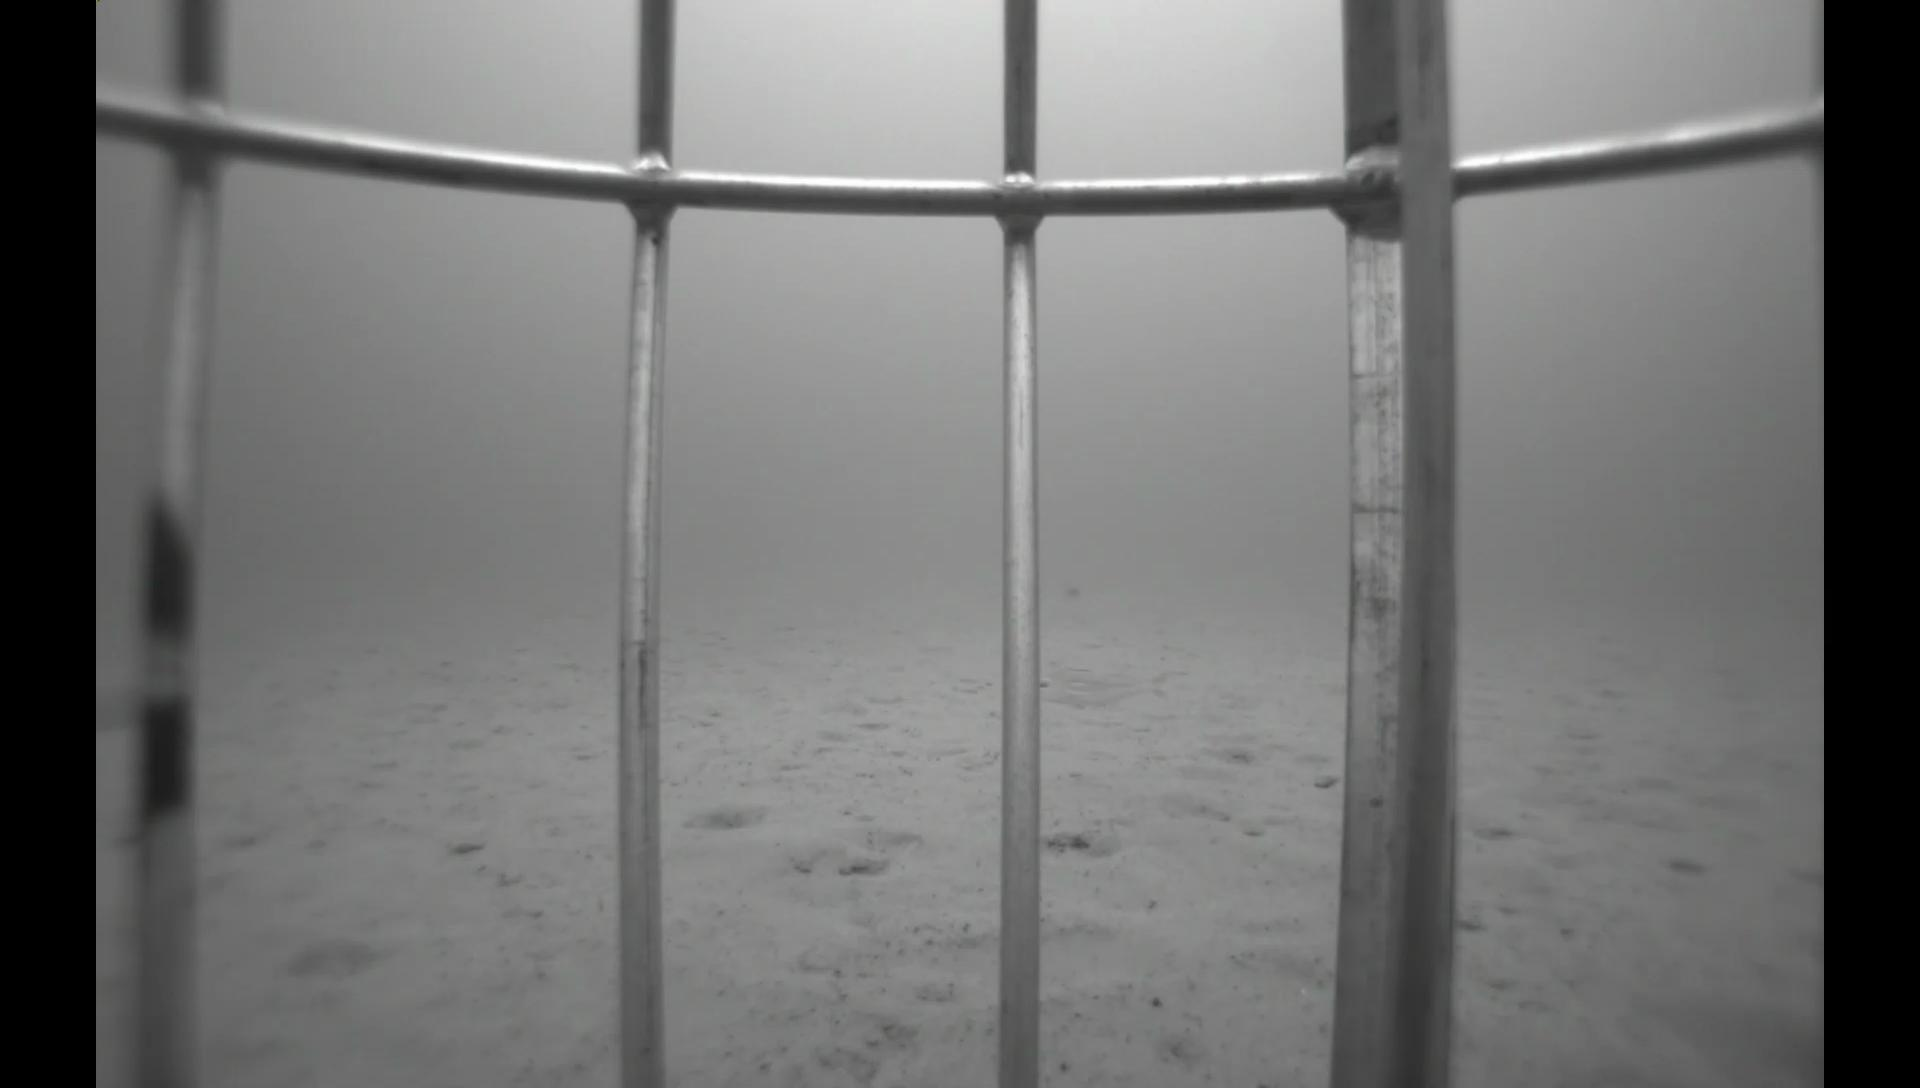CAULOLATILUSCYANOPS-170070101: (1038, 661, 1193, 710)
PRISTIPOMOIDES-170151800: (1547, 913, 1824, 1087)
